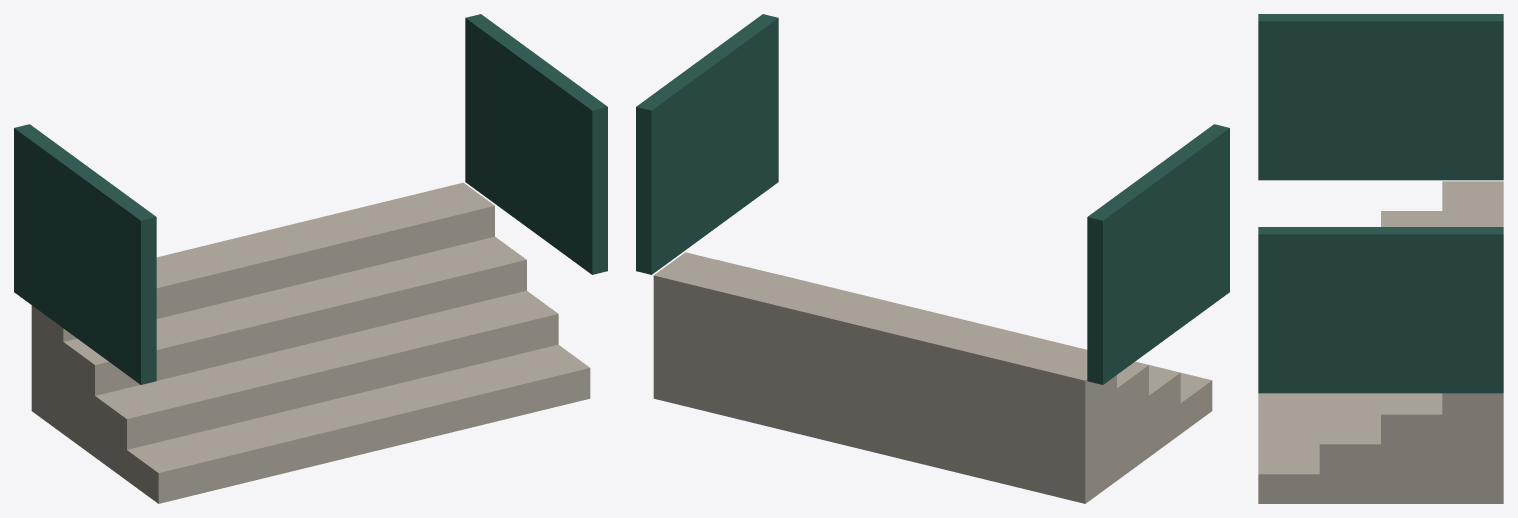
Rendered from escadaria.glb.
The picture shows the model from 3 angles, left to right: view 1: azimuth 30°, elevation 25°; view 2: azimuth 150°, elevation 25°; view 3: azimuth 270°, elevation 25°; orthographic projection. The views are drawn at different scales.
Visible parts, largest first — view 1: escadaria; view 2: escadaria; view 3: escadaria.
Part boxes in pixels (<box>): escadaria: <box>14,14,607,503</box>; escadaria: <box>636,14,1229,503</box>; escadaria: <box>1258,14,1503,503</box>.
Size of the model in its own units: 2.38 by 1.4 by 1.12.
